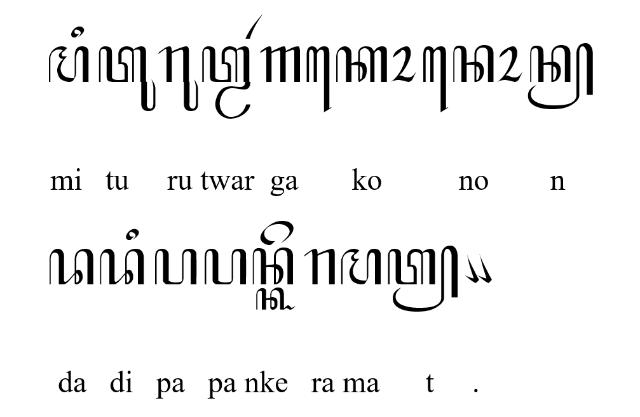-n: (527, 42, 593, 110)
-t: (388, 245, 458, 313)
_k: (256, 288, 296, 310)
_r1: (245, 14, 263, 39)
d: (48, 249, 94, 285), (100, 249, 144, 285)
e: (260, 221, 294, 245)
e1: (306, 45, 332, 112), (422, 45, 448, 112)
g: (260, 46, 300, 82)
i: (70, 26, 84, 38), (126, 230, 140, 241)
k: (336, 46, 388, 82)
kom: (476, 253, 492, 283), (465, 253, 479, 283)
m: (48, 45, 88, 82), (341, 249, 381, 285)
n: (452, 44, 493, 82), (252, 249, 292, 286)
o: (390, 45, 416, 82), (497, 46, 523, 82)
p: (155, 249, 197, 285), (204, 249, 246, 285)
r: (303, 249, 335, 286)
ru: (158, 46, 198, 112)
tu: (98, 46, 156, 112)
tw: (202, 47, 250, 120)
